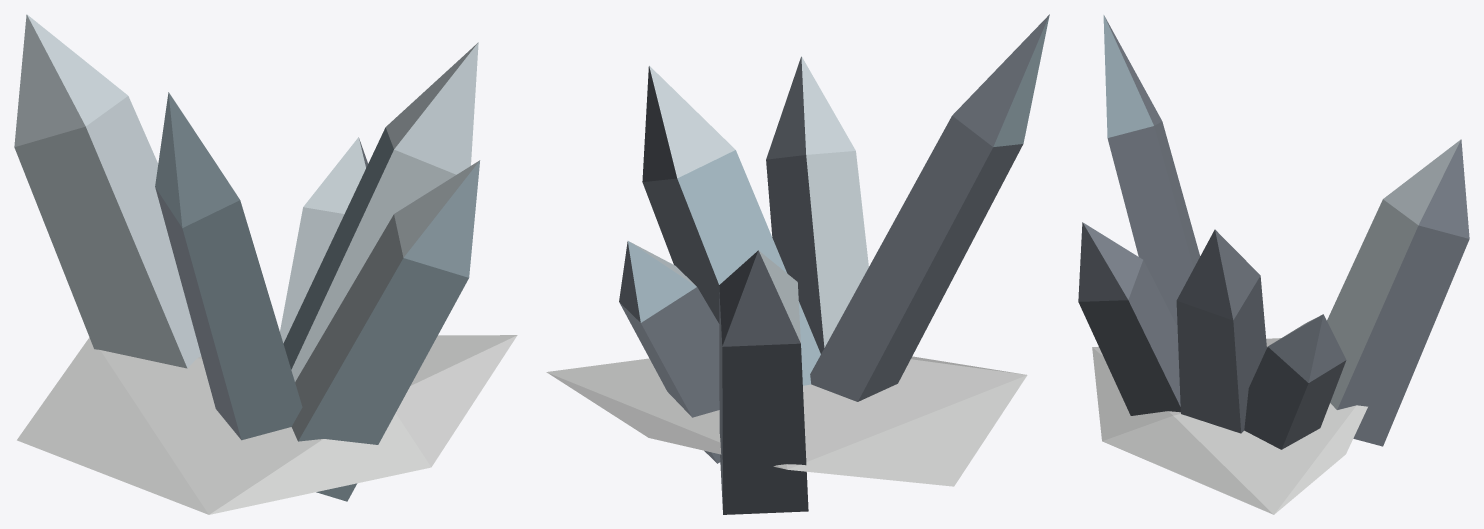
The model's file is prop_arctic_ice_0.glb.
3 renders of one model, left to right at view 1: azimuth 30°, elevation 25°; view 2: azimuth 150°, elevation 25°; view 3: azimuth 270°, elevation 25°, orthographic. The views are drawn at different scales.
Parts seen in each view (by area): view 1: Body; view 2: Body; view 3: Body.
Part boxes in pixels (left/top/right/bottom): Body: left=14, top=14, right=517, bottom=514; Body: left=546, top=14, right=1049, bottom=514; Body: left=1078, top=15, right=1469, bottom=514.
Bounding box in the file's own units: 0.6871 × 0.6585 × 0.6387.
